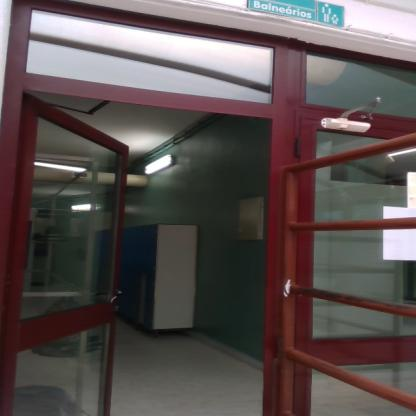semi: (9, 68, 281, 416)
